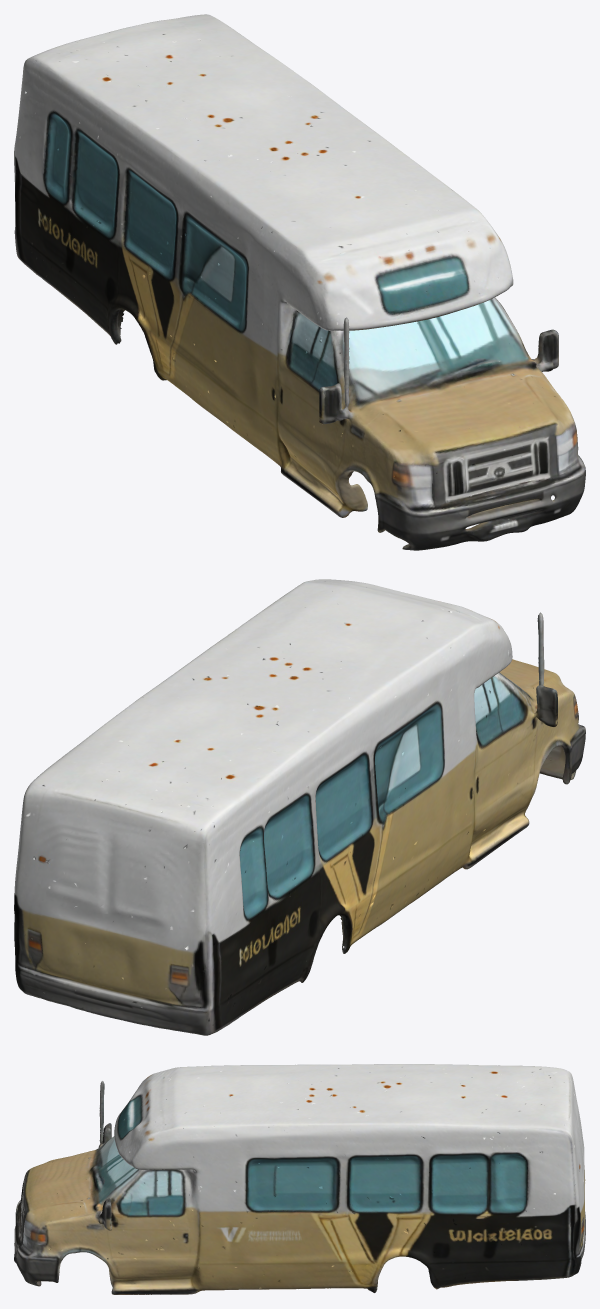
Rendered from vandy-van.glb.
3 renders of one model, top to bottom at view 1: azimuth 30°, elevation 25°; view 2: azimuth 150°, elevation 25°; view 3: azimuth 270°, elevation 25°, orthographic. The views are drawn at different scales.
Visible parts, largest first — view 1: Mesh_0; view 2: Mesh_0; view 3: Mesh_0.
Boxes of the visible parts, x1,y1,x2,y2 form: Mesh_0: (14,14,585,550); Mesh_0: (14,579,585,1035); Mesh_0: (14,1064,585,1294).
Bounding box in the file's own units: 2.07 × 1.98 × 6.
1 material, 1 textured.
